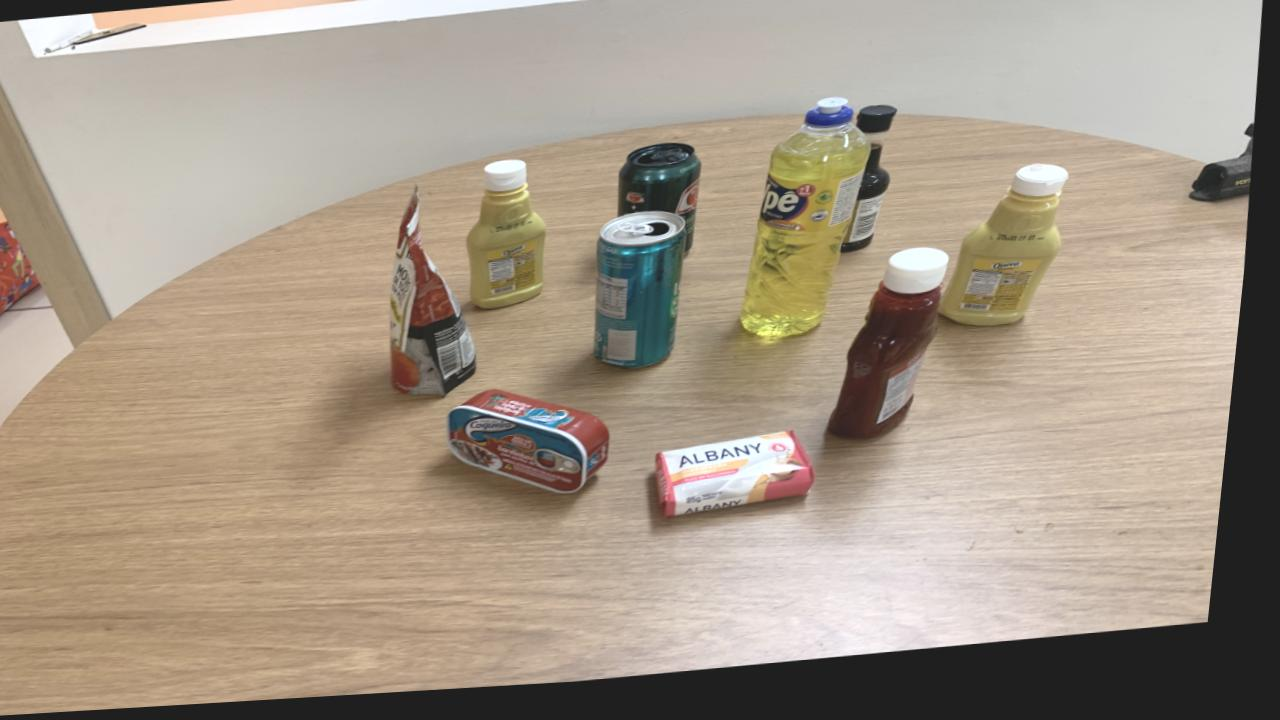Detergent-Cleanup_Items: (748, 108, 873, 348)
English_Sauce-Pantry_Items: (848, 116, 900, 264)
Guarana_Can-Drinks: (623, 151, 705, 260)
Ketchup-Pantry_Items: (838, 259, 955, 451)
Mustard-Pantry_Items: (948, 177, 1074, 339), (472, 166, 553, 316)
Soap-Cleanup_Items: (666, 441, 826, 526)
Tea-Drinks: (602, 219, 692, 376)
Tomato_Sauce-Pantry_Items: (397, 195, 484, 401)
Tuna_Can-Pantry_Items: (456, 396, 620, 501)
